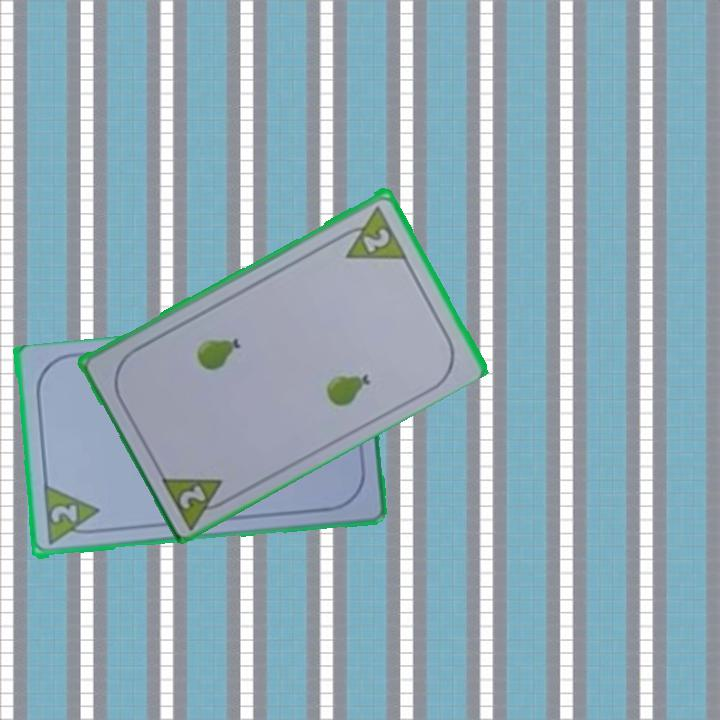2p: (156, 470, 237, 530), (39, 484, 103, 549), (359, 223, 393, 255)
